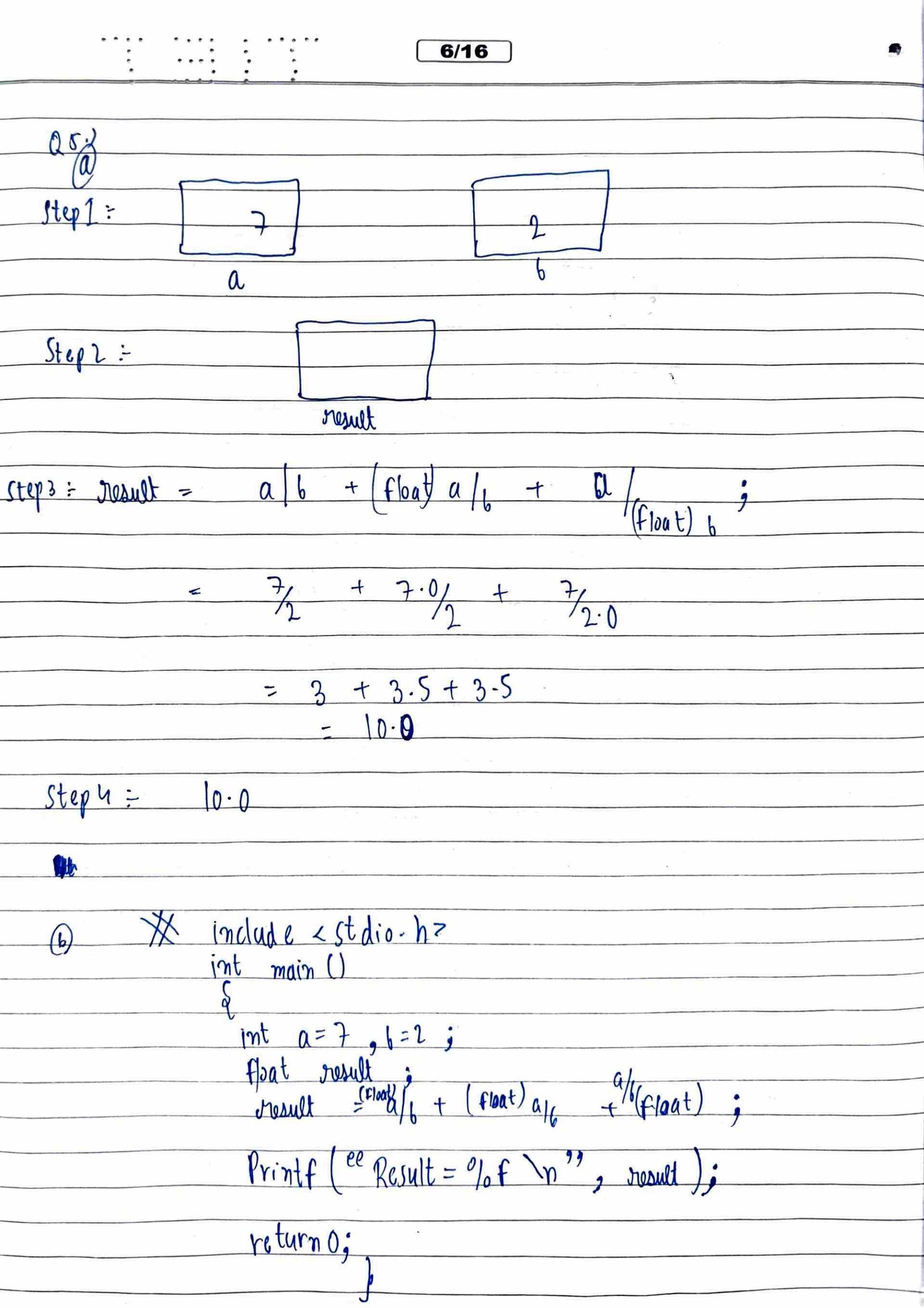cuttings: (50, 854, 79, 880)
